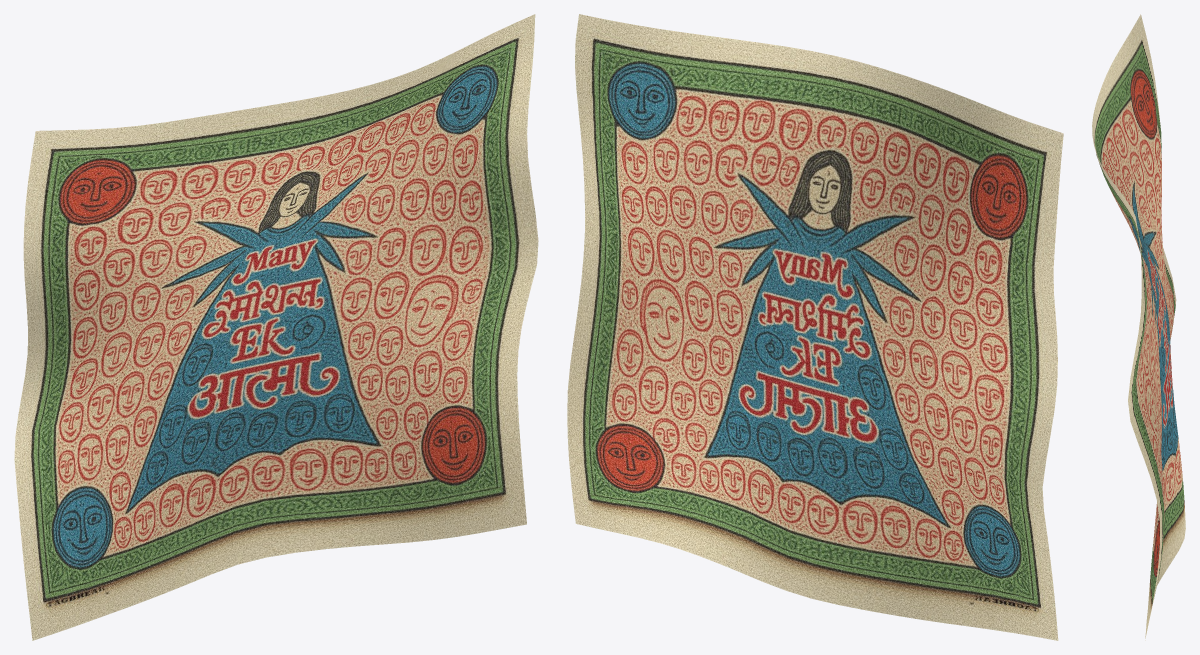
File: mul.glb
3 renders of one model, left to right at view 1: azimuth 30°, elevation 25°; view 2: azimuth 150°, elevation 25°; view 3: azimuth 270°, elevation 25°, orthographic. The views are drawn at different scales.
Visible parts, largest first — view 1: Plane; view 2: Plane; view 3: Plane.
Part boxes in pixels (<box>): Plane: <box>14,14,538,640</box>; Plane: <box>567,14,1063,640</box>; Plane: <box>1092,14,1185,640</box>.
Size of the model in its own units: 2.02 by 2 by 0.3968.
Materials: 1 (1 with a texture image).
